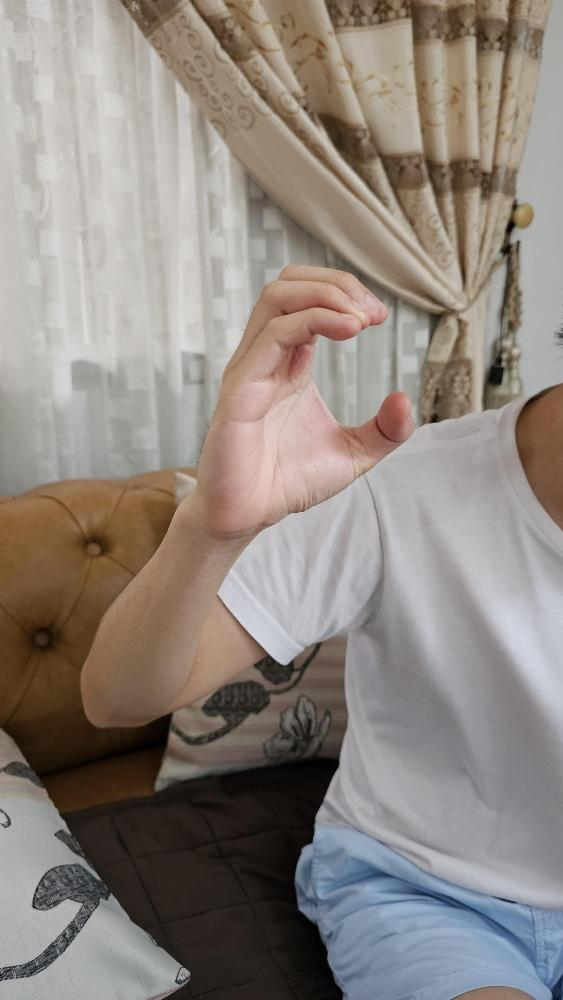c: (193, 259, 419, 535)
